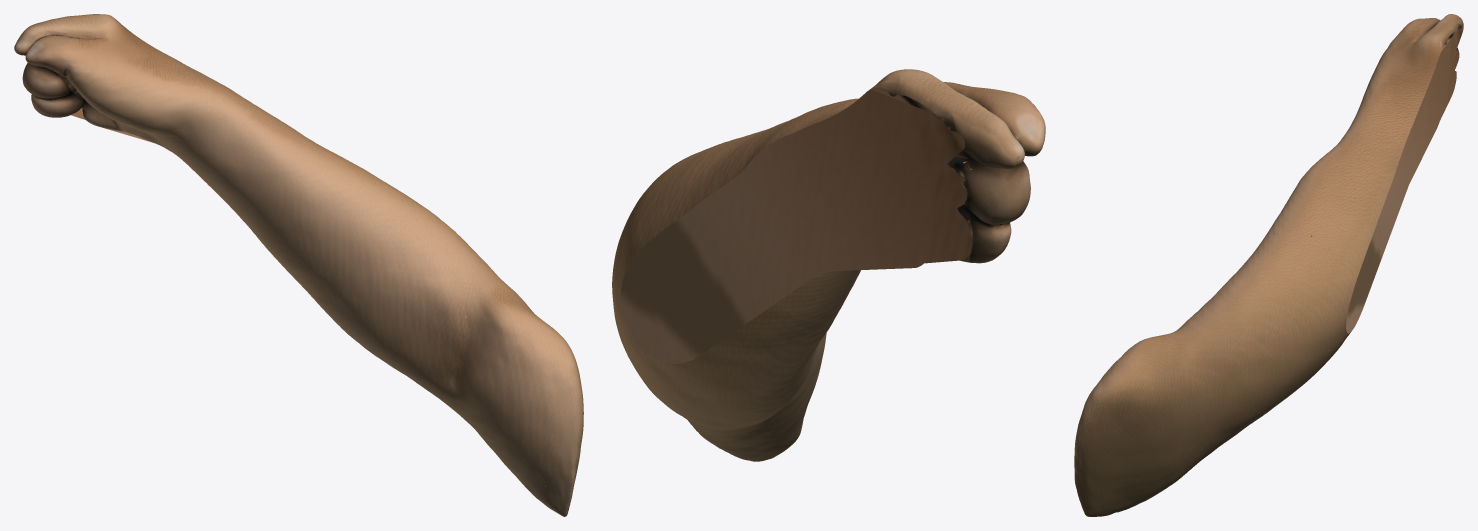
File: Hand.fbx
3 views of the same model, side by side, from view 1: azimuth 30°, elevation 25°; view 2: azimuth 150°, elevation 25°; view 3: azimuth 270°, elevation 25° (orthographic). The views are drawn at different scales.
Parts seen in each view (by area): view 1: material_0; view 2: material_0; view 3: material_0.
Part boxes in pixels (<box>): material_0: <box>14,14,583,516</box>; material_0: <box>612,69,1045,461</box>; material_0: <box>1074,14,1463,516</box>.
Bounding box in the file's own units: 90.81 × 99.66 × 95.61.
Materials: 1 (1 with a texture image).
